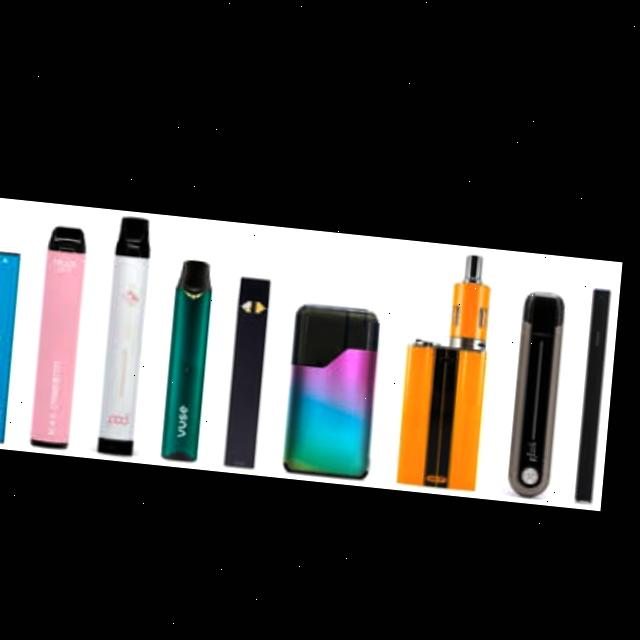vape: (403, 238, 500, 479), (290, 294, 388, 471), (105, 213, 158, 453), (38, 223, 92, 447), (515, 279, 570, 487), (169, 254, 220, 457), (232, 268, 276, 461), (582, 274, 616, 491), (0, 251, 27, 442)
